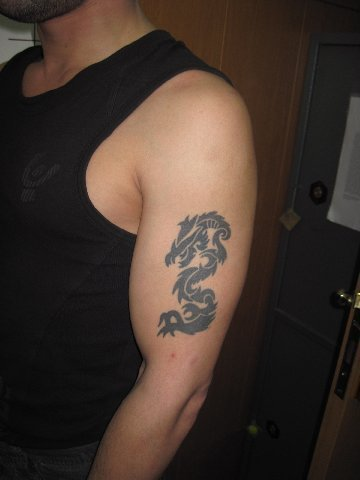tatu6_drakon: (151, 193, 234, 357)
